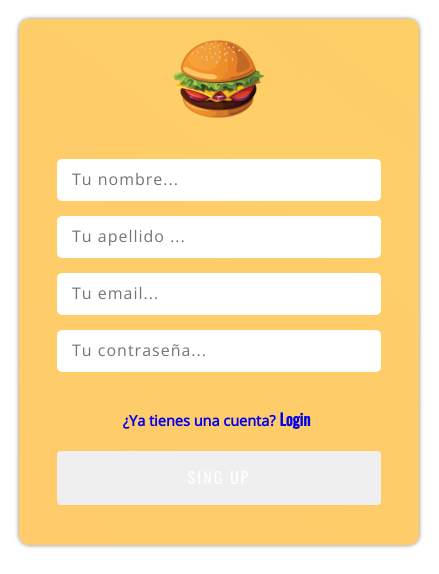
Test: form validations › diplay last name  error when input  is left empty after focus
The width and height of the screenshot is (439, 574).
Type "lastName24" into the field with test id "lastNameInput" at point(219, 237), box left=57, top=216, right=381, bottom=258
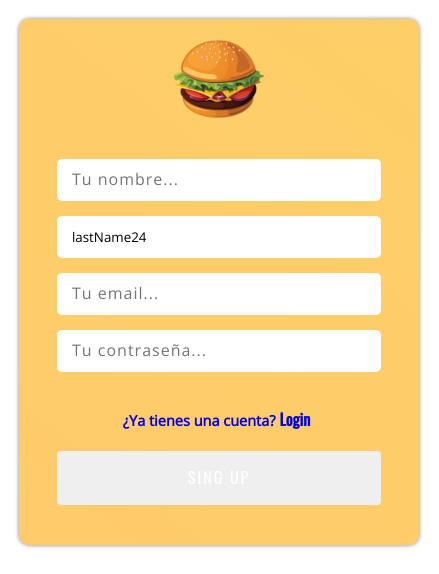
Leave the field with test id "lastNameInput", box left=57, top=216, right=381, bottom=258
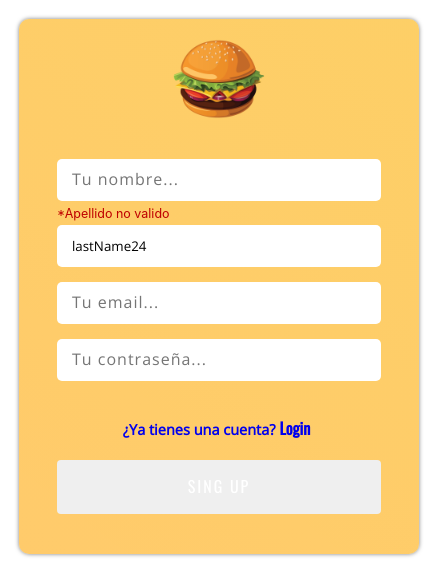
expect the text "*Apellido no valido" is shown: met, box left=57, top=206, right=170, bottom=221
Replace the text in the field with test id "lastNameInput" with "waleed" at point(219, 246), box left=57, top=225, right=381, bottom=267
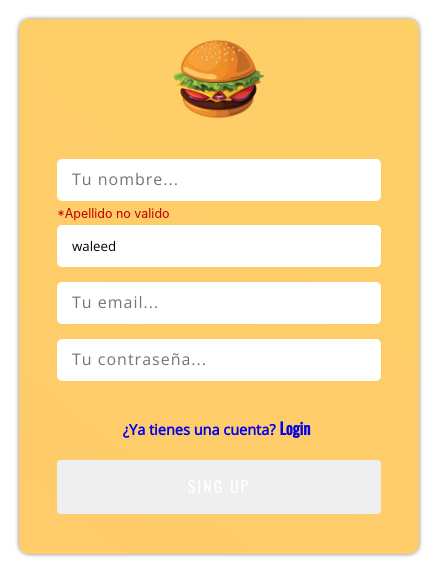
Leave the field with test id "lastNameInput", box left=57, top=225, right=381, bottom=267
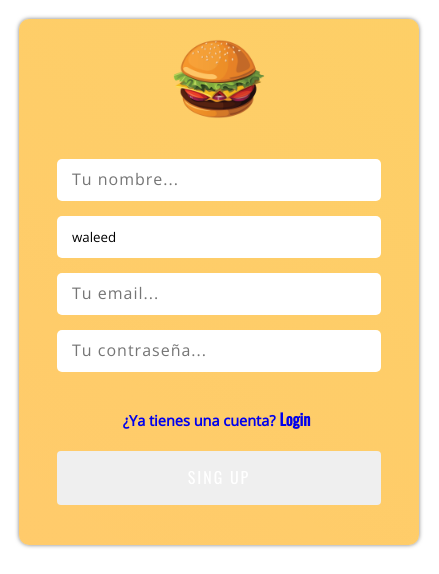
expect the text "*Apellido no valido" is gone: met
